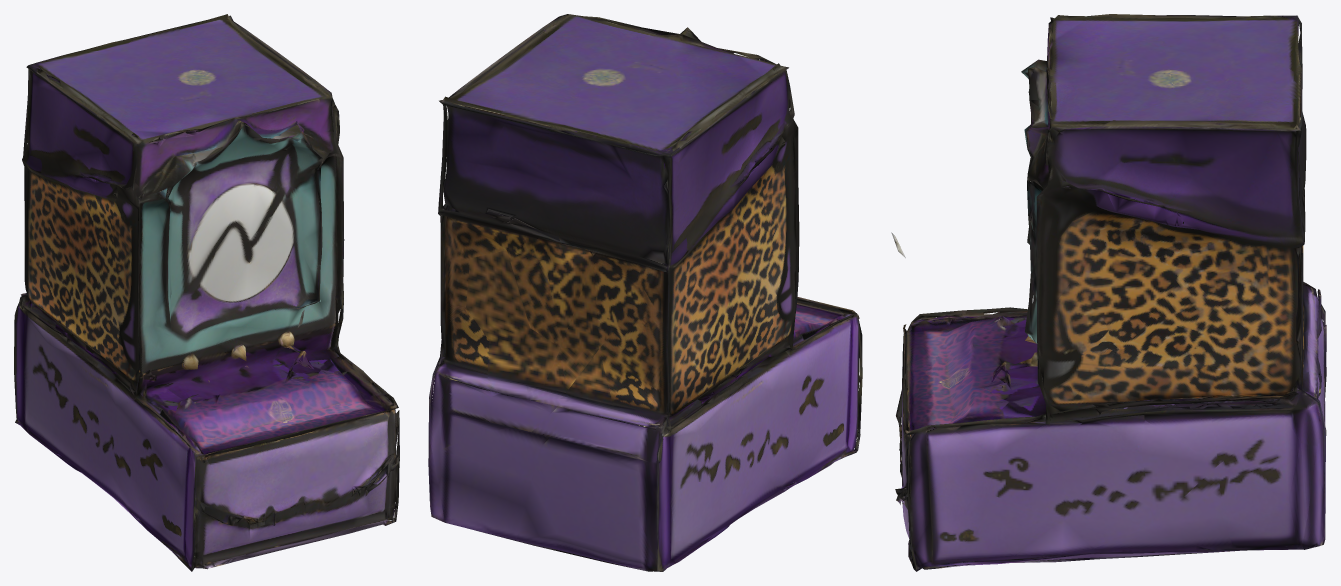
File: Laterna_3D.glb
3 renders of one model, left to right at view 1: azimuth 30°, elevation 25°; view 2: azimuth 150°, elevation 25°; view 3: azimuth 270°, elevation 25°, orthographic. The views are drawn at different scales.
Bounding box in the file's own units: 1.17 × 1.99 × 1.74.
Materials: 1 (1 with a texture image).
